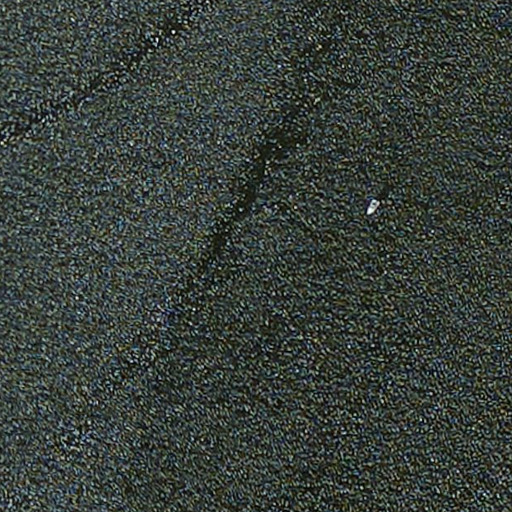ship: (363, 195, 384, 219)
